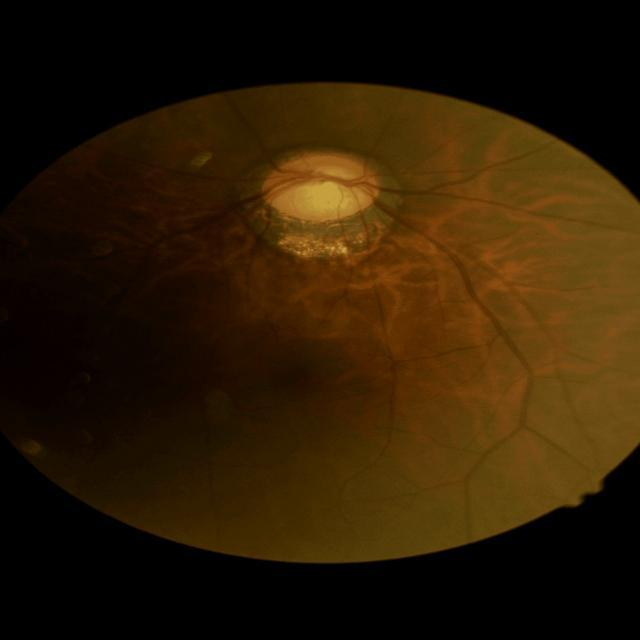cup: (277, 165, 365, 211)
disk: (262, 152, 380, 222)
